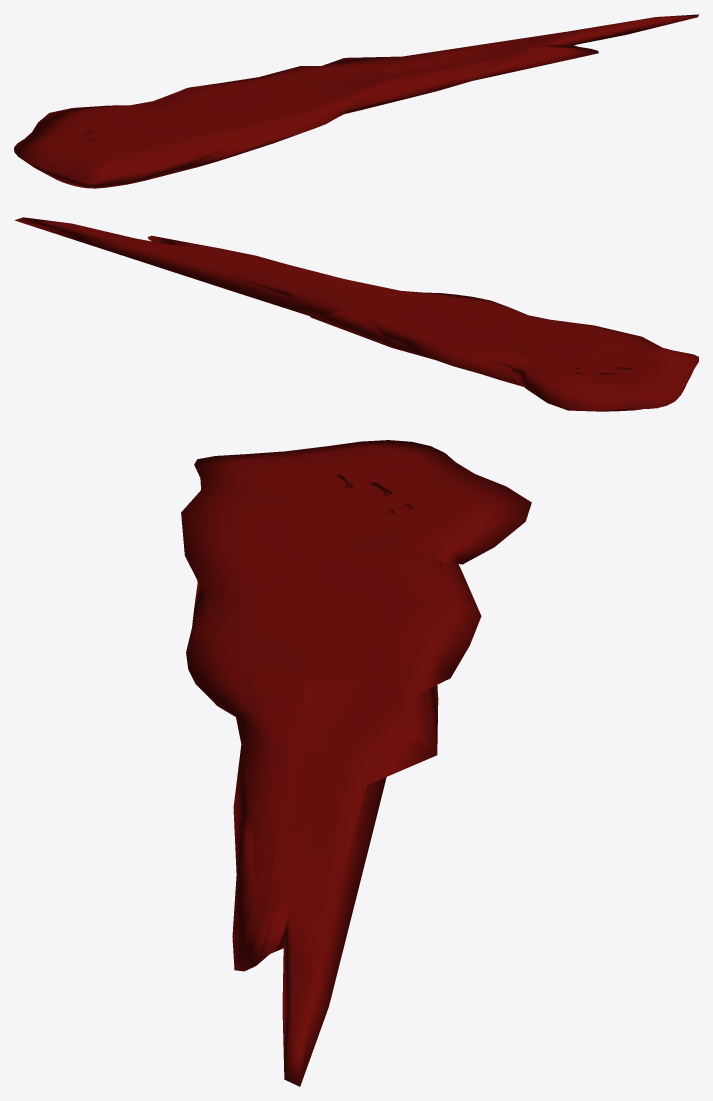
File: SmoothBlood.fbx
3 views of the same model, one above another, from view 1: azimuth 30°, elevation 25°; view 2: azimuth 150°, elevation 25°; view 3: azimuth 270°, elevation 25° (orthographic). The views are drawn at different scales.
Visible parts, largest first — view 1: Blood; view 2: Blood; view 3: Blood.
Part boxes in pixels (x1=…): Blood: x1=14, y1=14, x2=698, y2=188; Blood: x1=14, y1=217, x2=698, y2=411; Blood: x1=181, y1=440, x2=531, y2=1086.
Size of the model in its own units: 1807 by 67.13 by 417.
